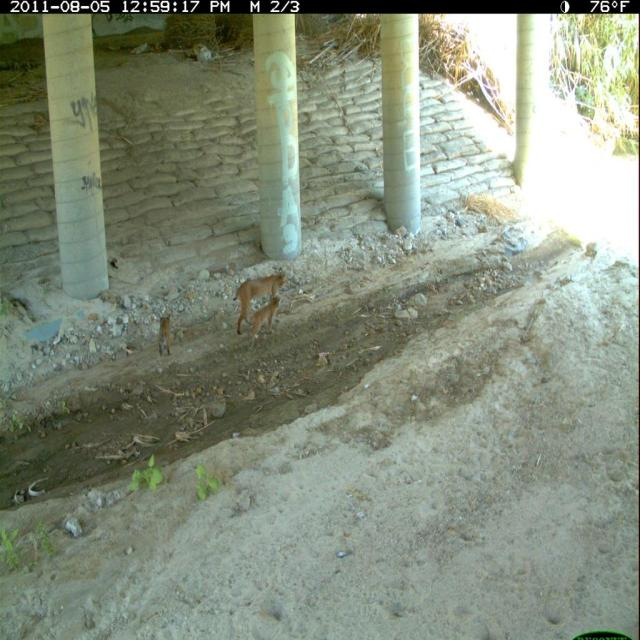bobcat: (231, 266, 291, 341), (247, 290, 286, 354), (155, 309, 175, 361)
